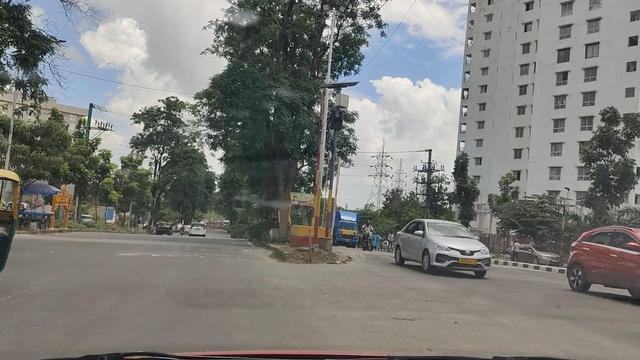LMV: (395, 215, 492, 278)
